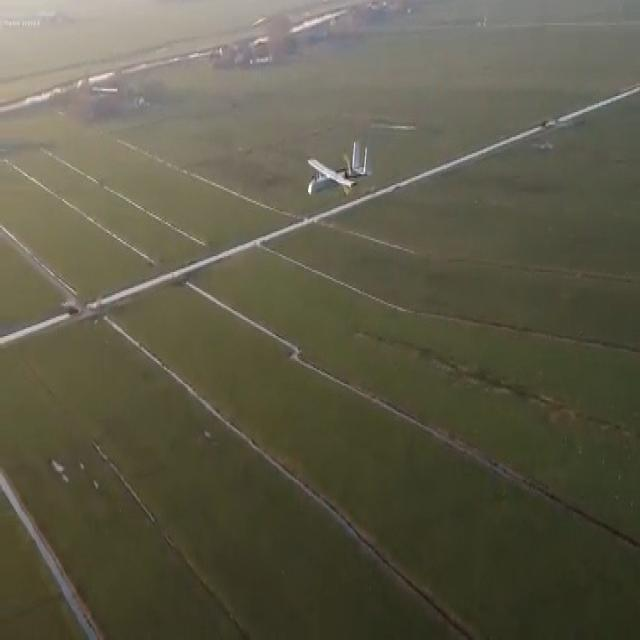iha: (336, 166, 340, 179)
